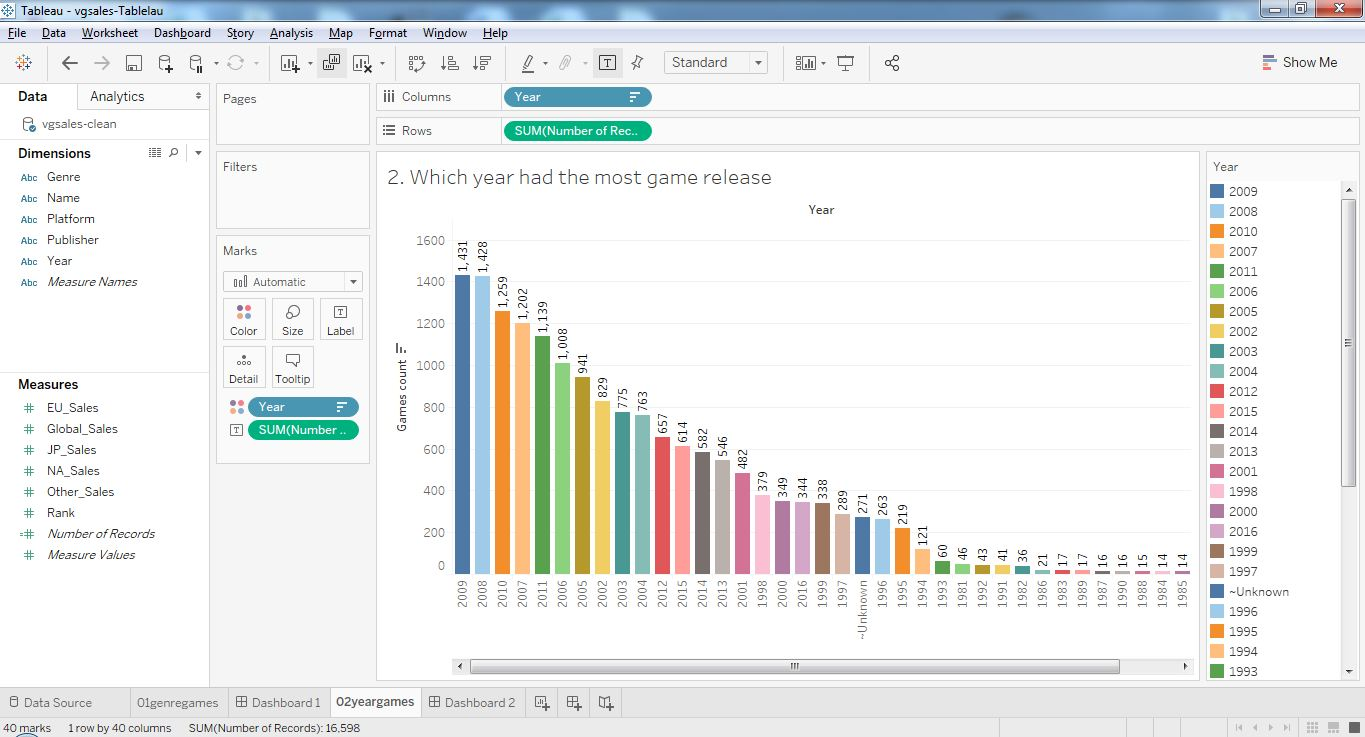

The page's visual inventory and layout, read from the dashboard file:
{"tool":"tableau","page":{"name":"Dashboard 2","canvas":[1000,1000],"units":"permille","ordinal":2},"visuals":[{"type":"worksheet","title":"02yeargames","mark":"Automatic","rows":["Number of Records"],"cols":["F4"],"box":[6.9,13.3,986.1,973.5]}]}

Visuals, with their boxes on the dashboard's canvas, which has no fixed pixel size, in thousandths of its width and height (x1, y1, x2, y2). These are canvas units, not pixel positions in the 1365x737 screenshot, which may show the page scaled, cropped or inside an application window:
"02yeargames" worksheet: BBox(7, 13, 993, 987)
